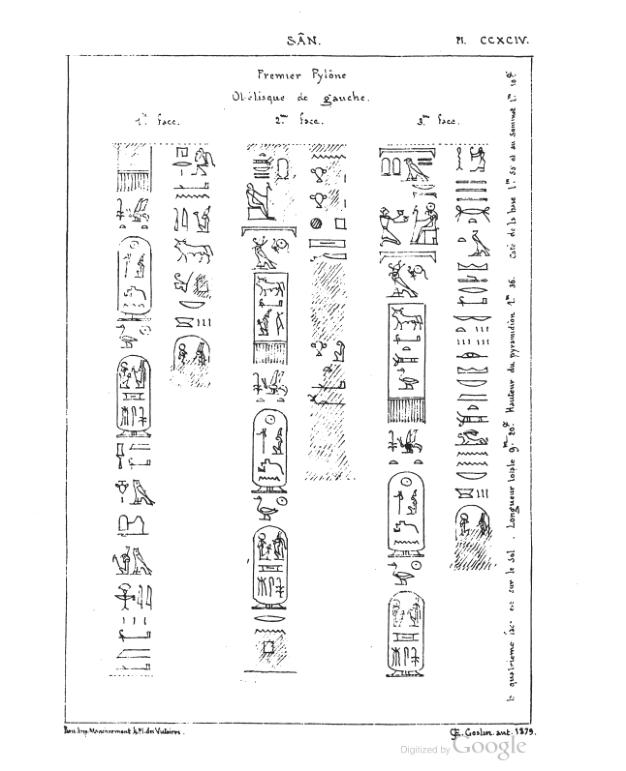circle: (240, 405, 295, 496), (110, 353, 161, 439), (385, 588, 430, 685), (247, 523, 295, 613), (112, 232, 158, 322), (384, 468, 428, 559), (170, 333, 214, 386), (449, 503, 498, 542)
